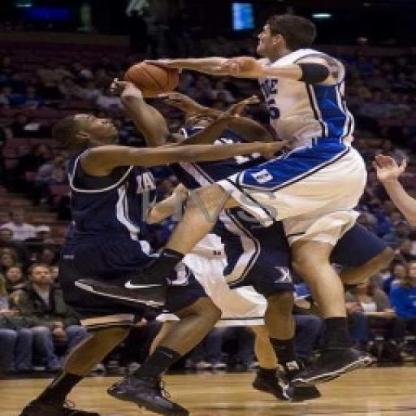basketball: (123, 56, 186, 103)
